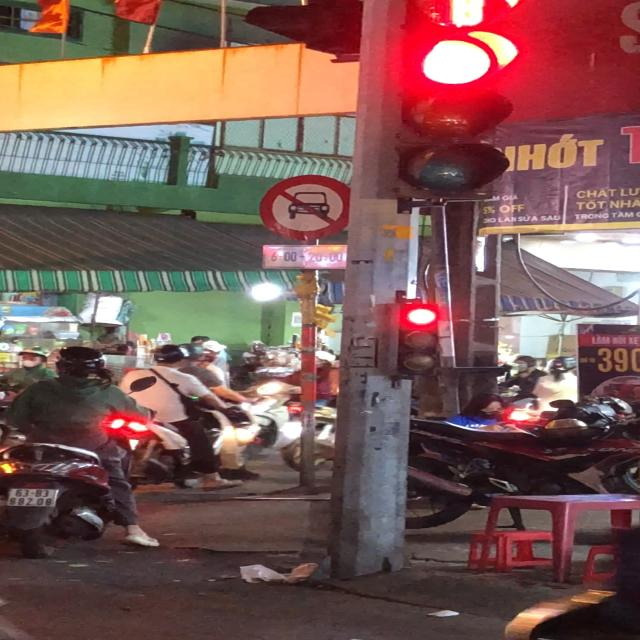Bien bao cam xe oto: (258, 175, 352, 242)
